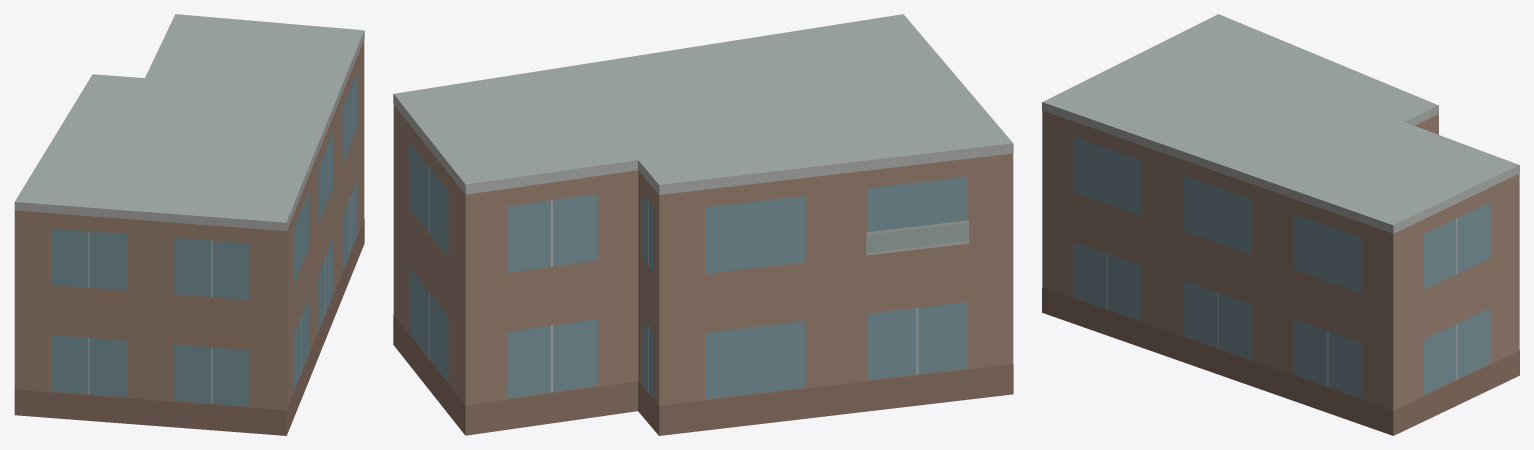
Rendered from survey-upis-32908007.glb.
The picture shows the model from 3 angles, left to right: view 1: azimuth 30°, elevation 25°; view 2: azimuth 150°, elevation 25°; view 3: azimuth 270°, elevation 25°; orthographic projection. The views are drawn at different scales.
Visible parts, largest first — view 1: survey-upis-32908007.tmp; view 2: survey-upis-32908007.tmp; view 3: survey-upis-32908007.tmp.
Part boxes in pixels (x1,y1,x2,y2): survey-upis-32908007.tmp: (14, 14, 364, 435); survey-upis-32908007.tmp: (393, 14, 1013, 435); survey-upis-32908007.tmp: (1042, 14, 1519, 435).
Bounding box in the file's own units: 13.14 × 6.1 × 12.55.
